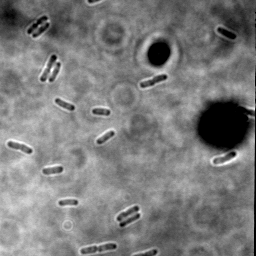Dividing: (39, 54, 58, 82), (138, 73, 168, 90), (25, 14, 49, 35), (79, 242, 117, 255), (115, 204, 140, 222), (6, 140, 33, 155), (212, 151, 238, 166)
Rod: (215, 25, 238, 41), (95, 129, 116, 146), (119, 213, 141, 229), (47, 60, 62, 83), (54, 97, 76, 112), (32, 21, 50, 39), (42, 164, 64, 176), (57, 197, 80, 207), (91, 107, 111, 117)
